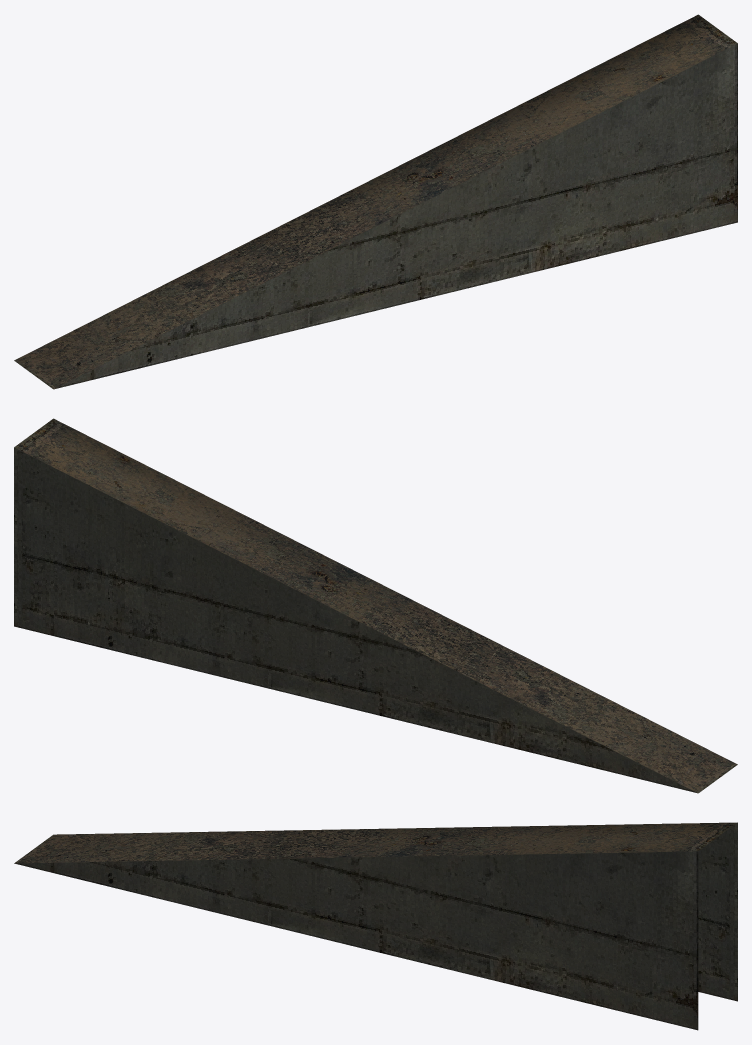
File: wall_top_part_rg_1.glb
3 renders of one model, top to bottom at view 1: azimuth 30°, elevation 25°; view 2: azimuth 150°, elevation 25°; view 3: azimuth 330°, elevation 25°, orthographic.
Visible parts, largest first — view 1: wall_top_part_rg_1; view 2: wall_top_part_rg_1; view 3: wall_top_part_rg_1.
Part boxes in pixels (x1=…): wall_top_part_rg_1: x1=14, y1=14, x2=737, y2=389; wall_top_part_rg_1: x1=14, y1=418, x2=737, y2=793; wall_top_part_rg_1: x1=14, y1=822, x2=737, y2=1030.
Bounding box in the file's own units: 4 × 1 × 0.4.
Materials: 2 (2 with a texture image).
